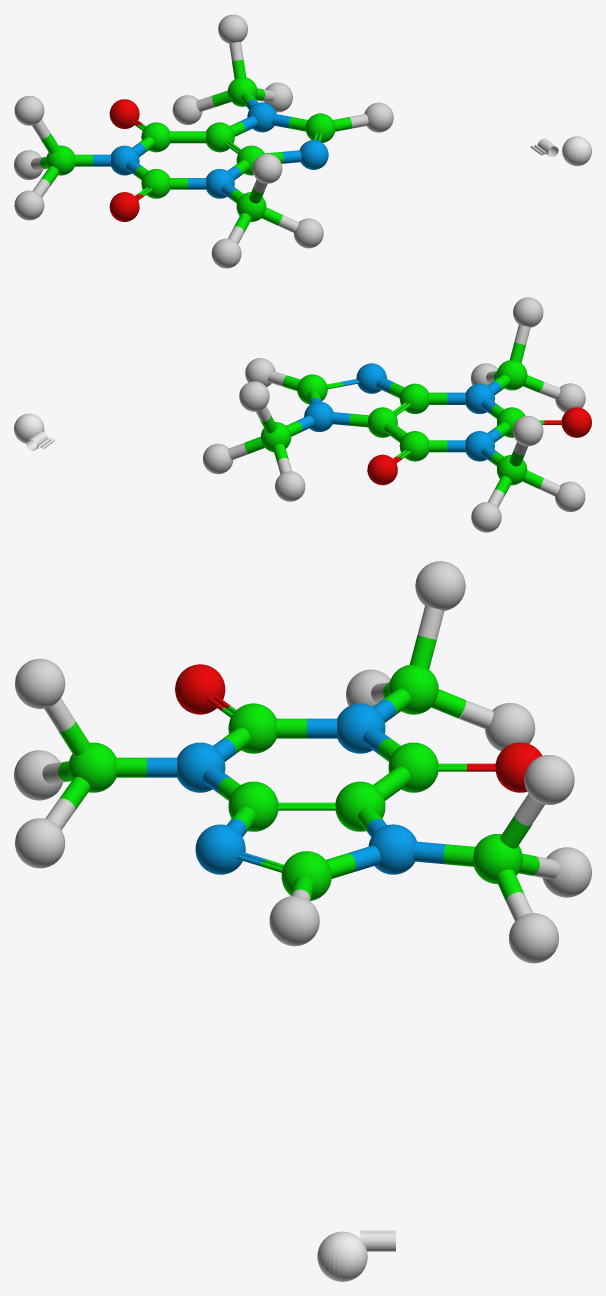
Rendered from CAFFINE-completed.dae.
3 views of the same model, one above another, from view 1: azimuth 30°, elevation 25°; view 2: azimuth 150°, elevation 25°; view 3: azimuth 270°, elevation 25° (orthographic). The views are drawn at different scales.
Parts seen in each view (by area): view 1: Tube_032, nitrogen_002, Tube_026, Mesh_001; view 2: Tube_032, nitrogen_002, Tube_026, Mesh_001; view 3: Tube_032, nitrogen_002, Tube_026, Mesh_001.
Part boxes in pixels (x1,y1,x2,y2): Tube_032: [14, 14, 393, 268]; nitrogen_002: [93, 99, 328, 199]; Tube_026: [109, 99, 143, 221]; Mesh_001: [562, 136, 591, 166]; Tube_032: [203, 297, 585, 532]; nitrogen_002: [296, 363, 500, 461]; Tube_026: [367, 407, 591, 485]; Mesh_001: [14, 413, 44, 443]; Tube_032: [14, 561, 591, 963]; nitrogen_002: [147, 699, 445, 874]; Tube_026: [175, 664, 542, 792]; Mesh_001: [317, 1231, 367, 1281].
Size of the model in its own units: 61.68 by 32.49 by 18.02.
